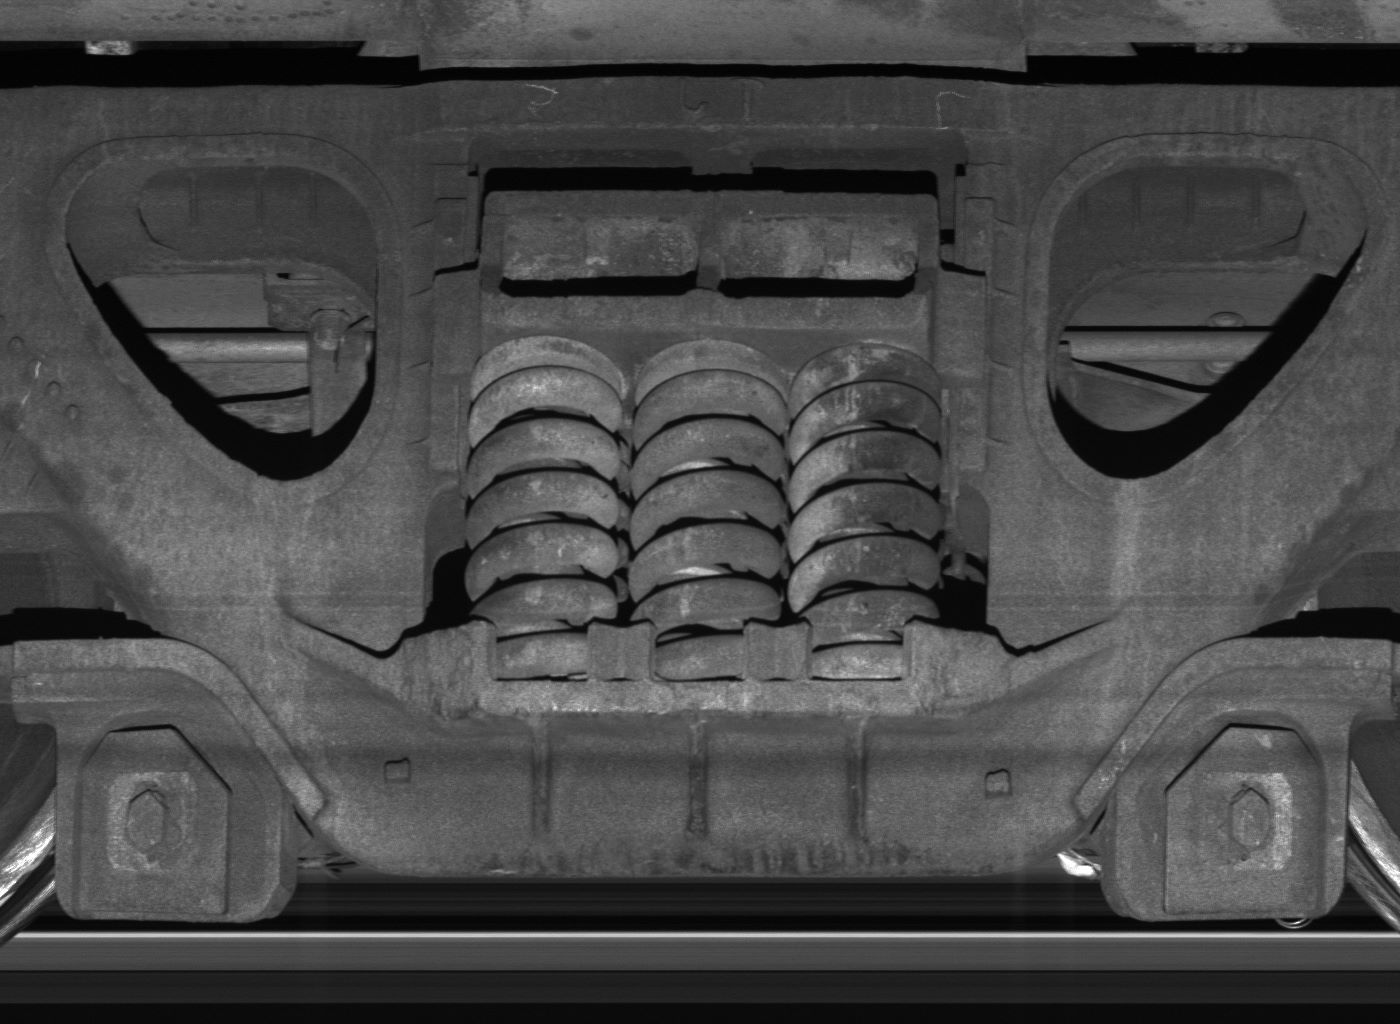normal: (1118, 700, 1346, 919), (57, 703, 282, 921)
